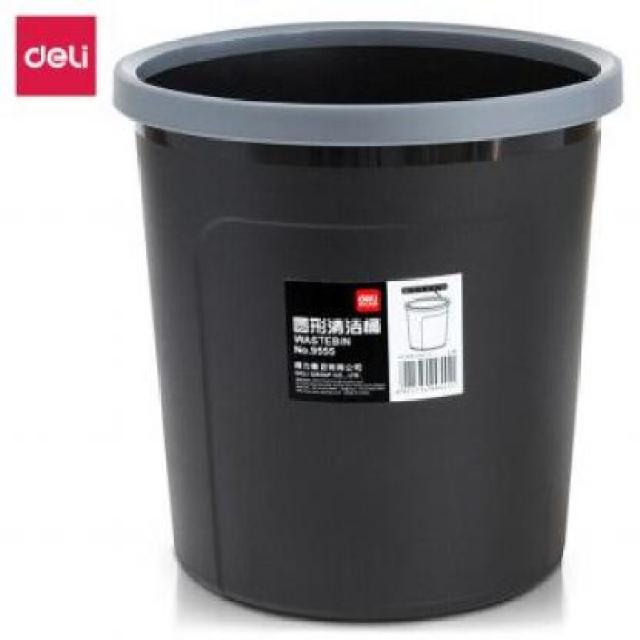dustbin: (106, 15, 633, 631)
